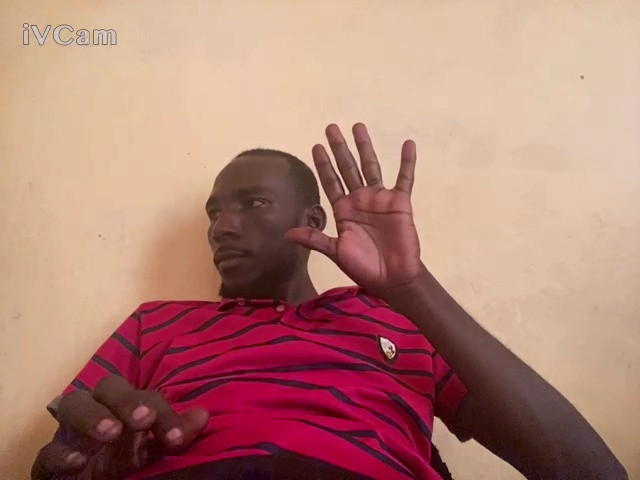bonjour: (281, 117, 429, 304)
